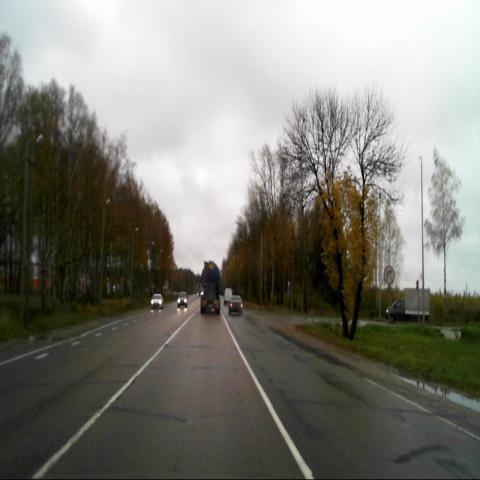3_18: (384, 263, 396, 287)
